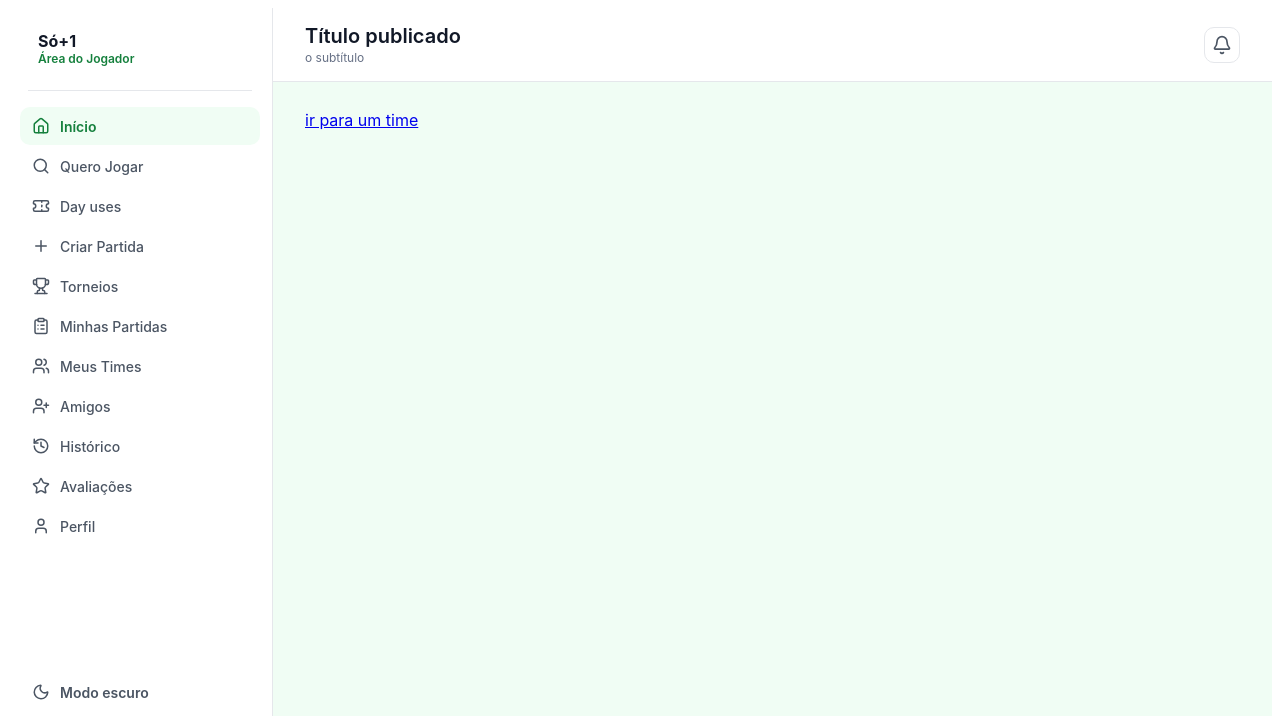
Test: a topbar na área do jogador › mostra o título que a página publica, e o do menu quando ela não publica nada
The image size is (1280, 716).
Expected: the text "o subtítulo" is shown, [305, 50, 364, 65]
Expected: the heading reads "Título publicado", [305, 24, 461, 48]
What coordinates should you click on to do the following:
click the link "ir para um time"
I would click on:
 (362, 120)
Its box is [305, 110, 418, 130].
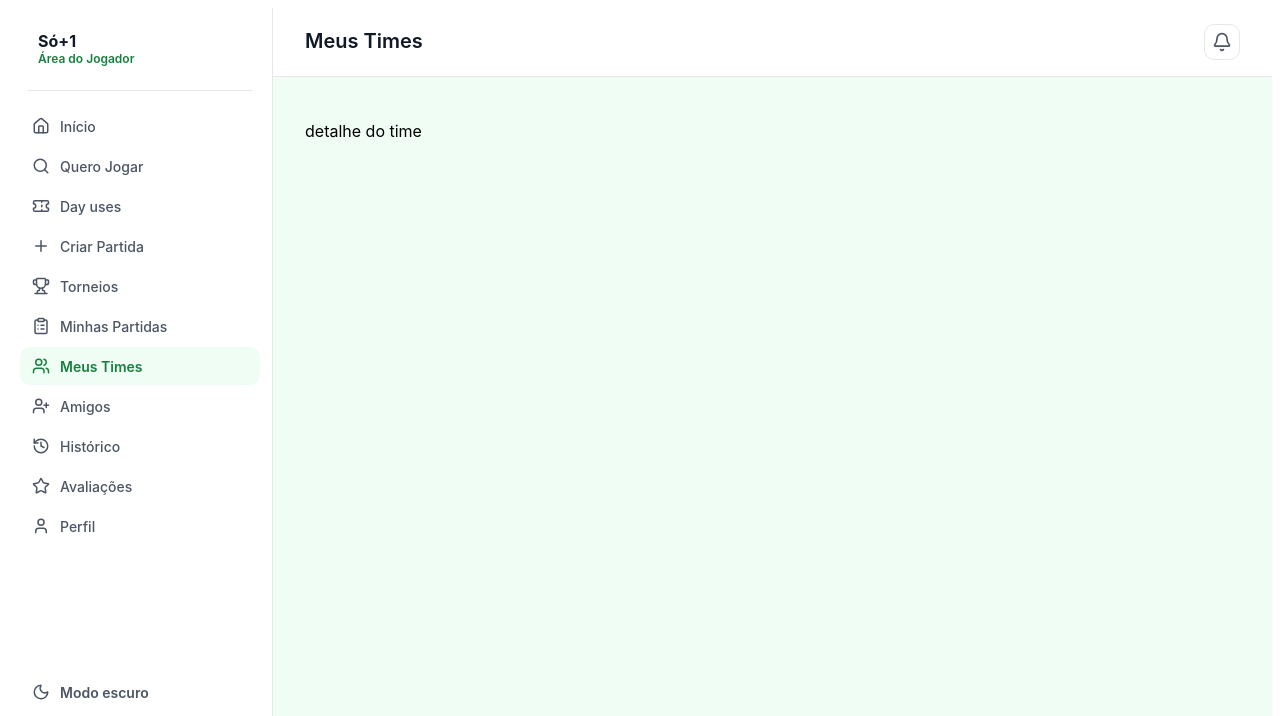
Expected: the text "detalhe do time" is shown, [305, 121, 422, 141]
Expected: the heading reads "Meus Times", [305, 29, 423, 53]
Expected: the text "o subtítulo" is gone
